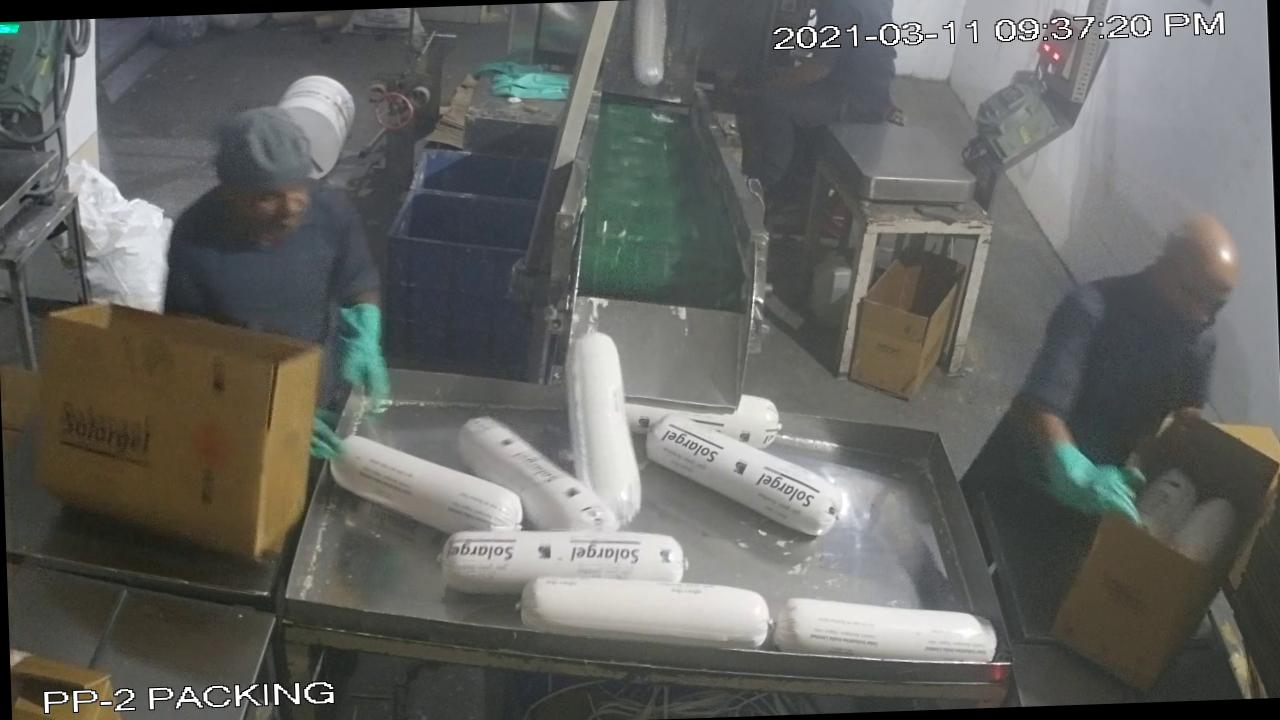Gloves: (1024, 410, 1152, 538), (315, 282, 422, 422)
